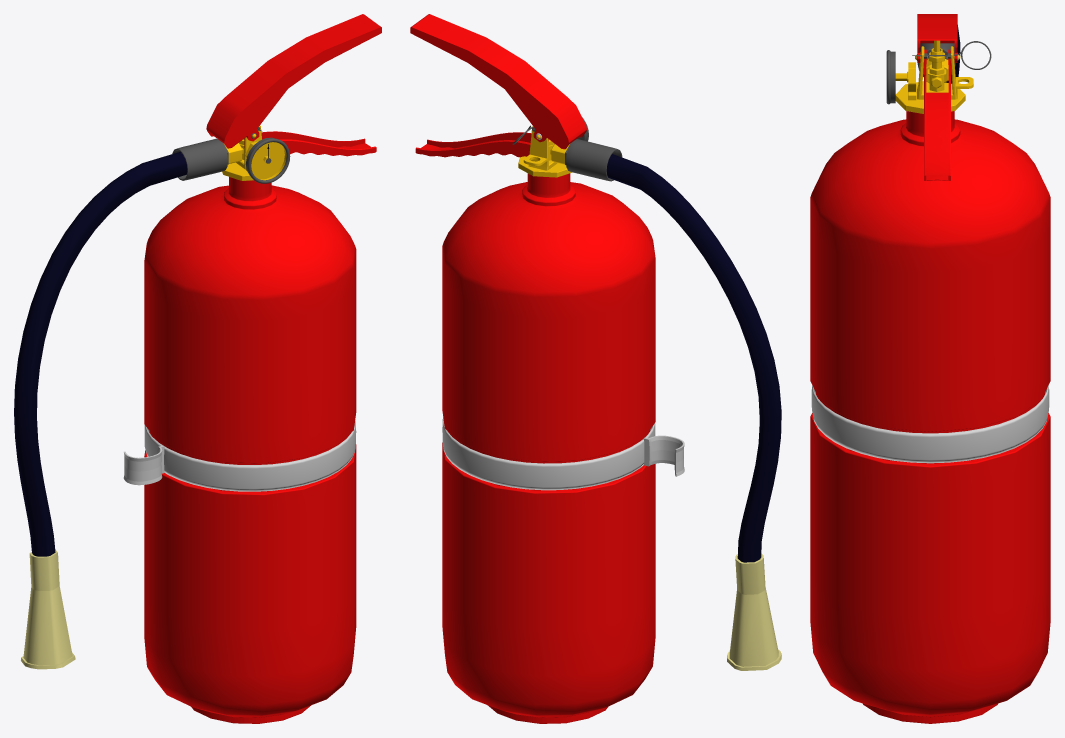
The picture shows the model from 3 angles, left to right: view 1: azimuth 30°, elevation 25°; view 2: azimuth 150°, elevation 25°; view 3: azimuth 270°, elevation 25°; orthographic projection. The views are drawn at different scales.
Parts seen in each view (by area): view 1: polySurface23, pCylinder24, pCube4, polySurface22, polySurface30, polySurface42, polySurface28; view 2: polySurface23, pCylinder24, pCube4, polySurface22, polySurface30, polySurface42, polySurface40; view 3: polySurface23, polySurface22, polySurface30, pCube4, polySurface40, polySurface24, polySurface38.
Part boxes in pixels (x1,y1,x2,y2): polySurface23: (144,177,356,723); pCylinder24: (14,151,187,669); pCube4: (206,14,381,148); polySurface22: (123,419,356,491); polySurface30: (244,131,376,156); polySurface42: (172,138,227,180); polySurface28: (245,137,286,180); polySurface23: (442,173,655,723); pCylinder24: (606,154,781,670); pCube4: (410,14,586,149); polySurface22: (442,417,684,490); polySurface30: (415,132,548,157); polySurface42: (565,139,622,181); polySurface40: (523,126,557,170); polySurface23: (810,111,1050,723); polySurface22: (811,385,1049,463); polySurface30: (924,49,950,180); pCube4: (917,14,957,62); polySurface40: (917,46,973,99); polySurface24: (895,81,965,113); polySurface38: (927,48,946,91).
Size of the model in its own units: 23.1 by 39.66 by 11.98.
